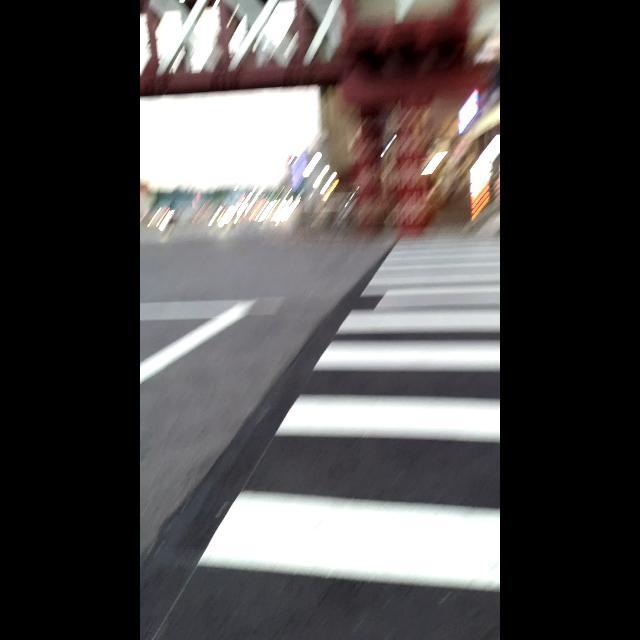sidewalk: (154, 228, 500, 640)
